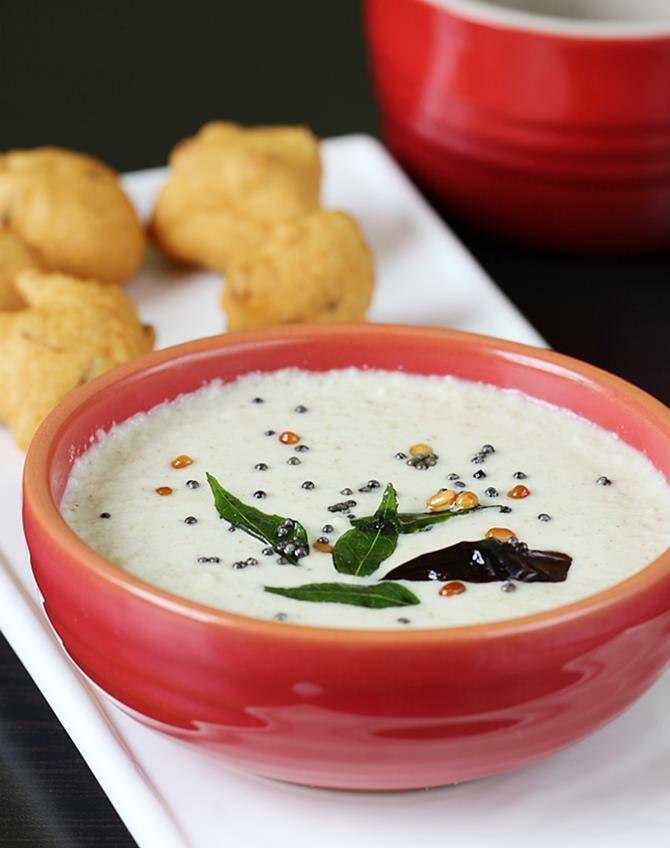CoconutChutney: (59, 371, 670, 632)
